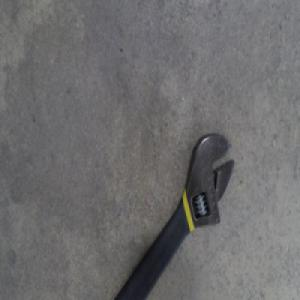AdjustableWrench: (112, 133, 235, 299)
